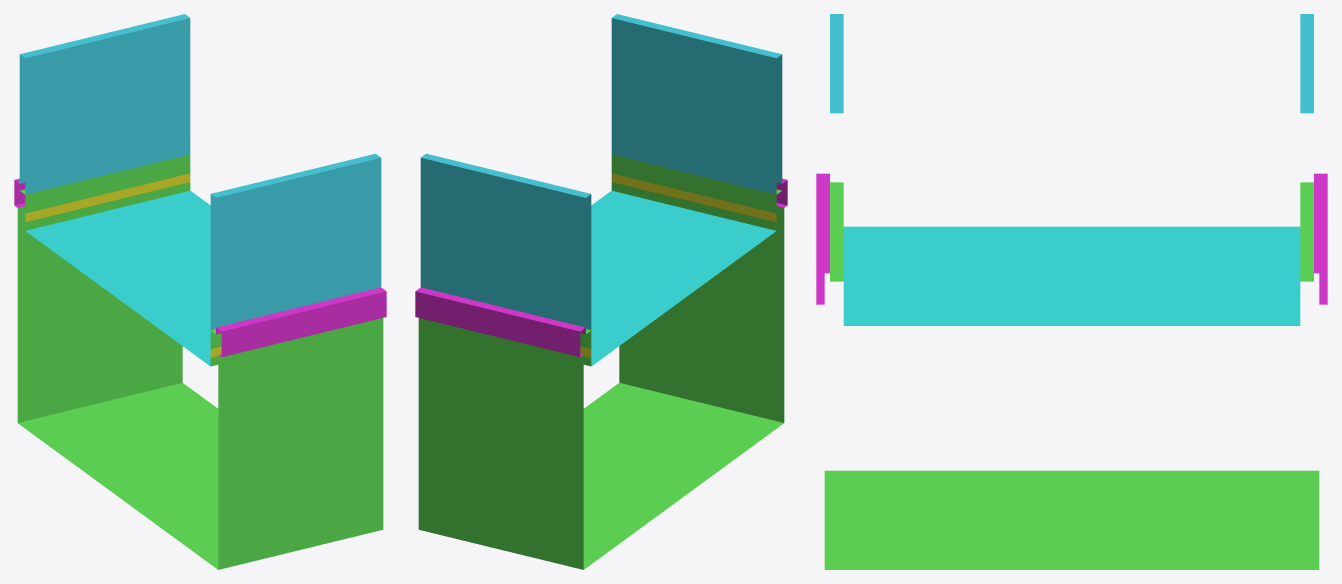
File: Flower_Bed_03_Middle.fbx
3 renders of one model, left to right at view 1: azimuth 30°, elevation 25°; view 2: azimuth 150°, elevation 25°; view 3: azimuth 270°, elevation 25°, orthographic. The views are drawn at different scales.
Visible parts, largest first — view 1: Flower_Bed_03_Middle, Flower_Bed_03_Middle_Glass; view 2: Flower_Bed_03_Middle, Flower_Bed_03_Middle_Glass; view 3: Flower_Bed_03_Middle, Flower_Bed_03_Middle_Glass.
Boxes of the visible parts, x1,y1,x2,y2 form: Flower_Bed_03_Middle: [14, 154, 386, 569]; Flower_Bed_03_Middle_Glass: [19, 14, 381, 329]; Flower_Bed_03_Middle: [415, 154, 787, 569]; Flower_Bed_03_Middle_Glass: [420, 14, 782, 329]; Flower_Bed_03_Middle: [816, 173, 1327, 569]; Flower_Bed_03_Middle_Glass: [830, 14, 1313, 113].
Bounding box in the file's own units: 57.91 × 124 × 126.
